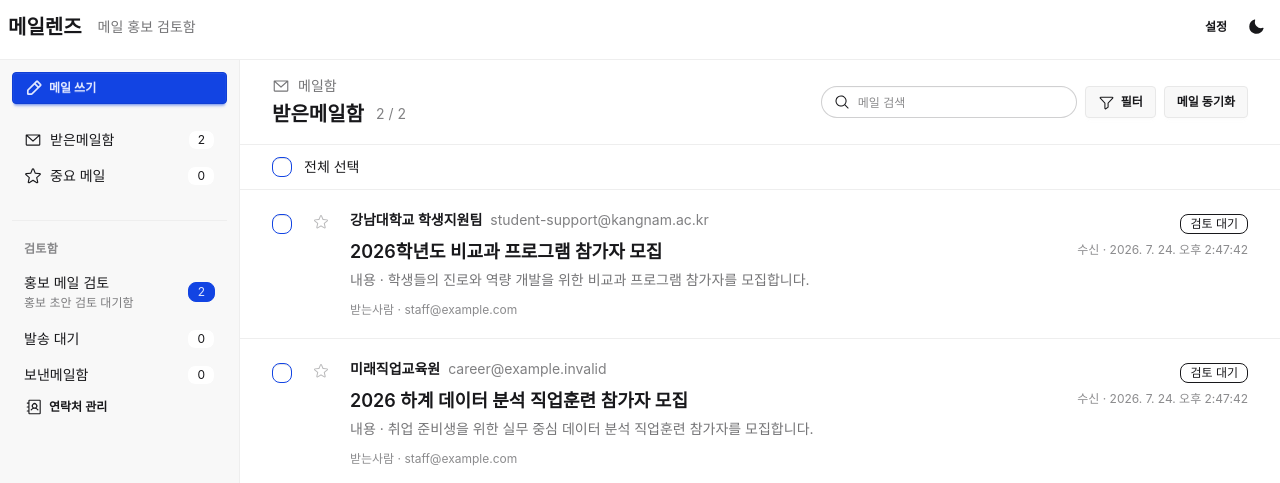
shows sent mailbox with sent status items
This screenshot has width=1280, height=483.
Click the button "보낸메일함 0" at (120, 375), box [12,359,227,391]
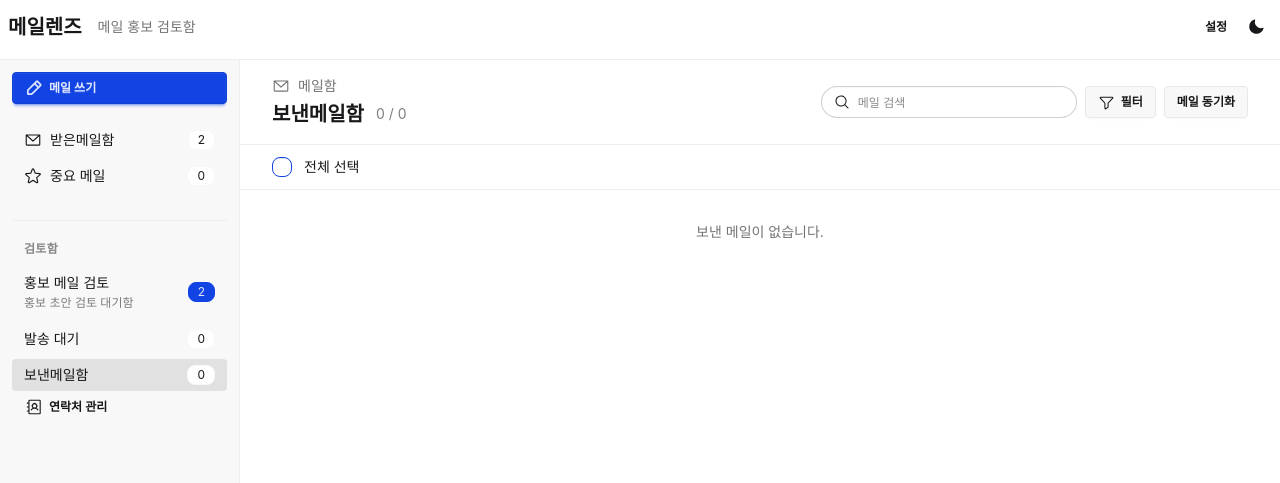
Result: the heading "보낸메일함" is shown at [272,100,364,128]
